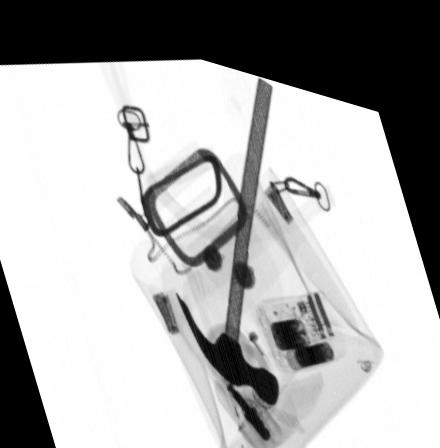Hammer: (174, 61, 279, 391)
